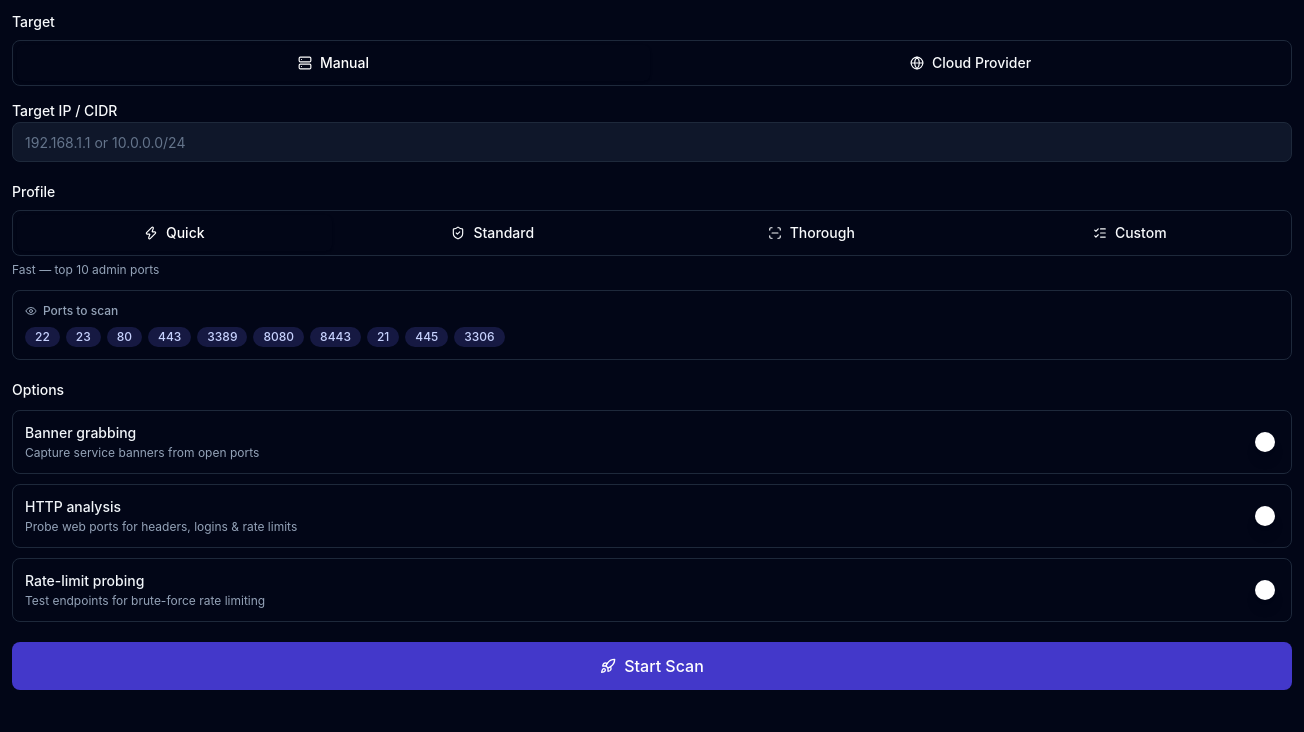
ScanForm profile preview › updates the preview chips when the standard profile is selected
Expected: the text "25" is not shown
Click the button "Standard" at coordinates (493, 233), box [336,215,650,251]
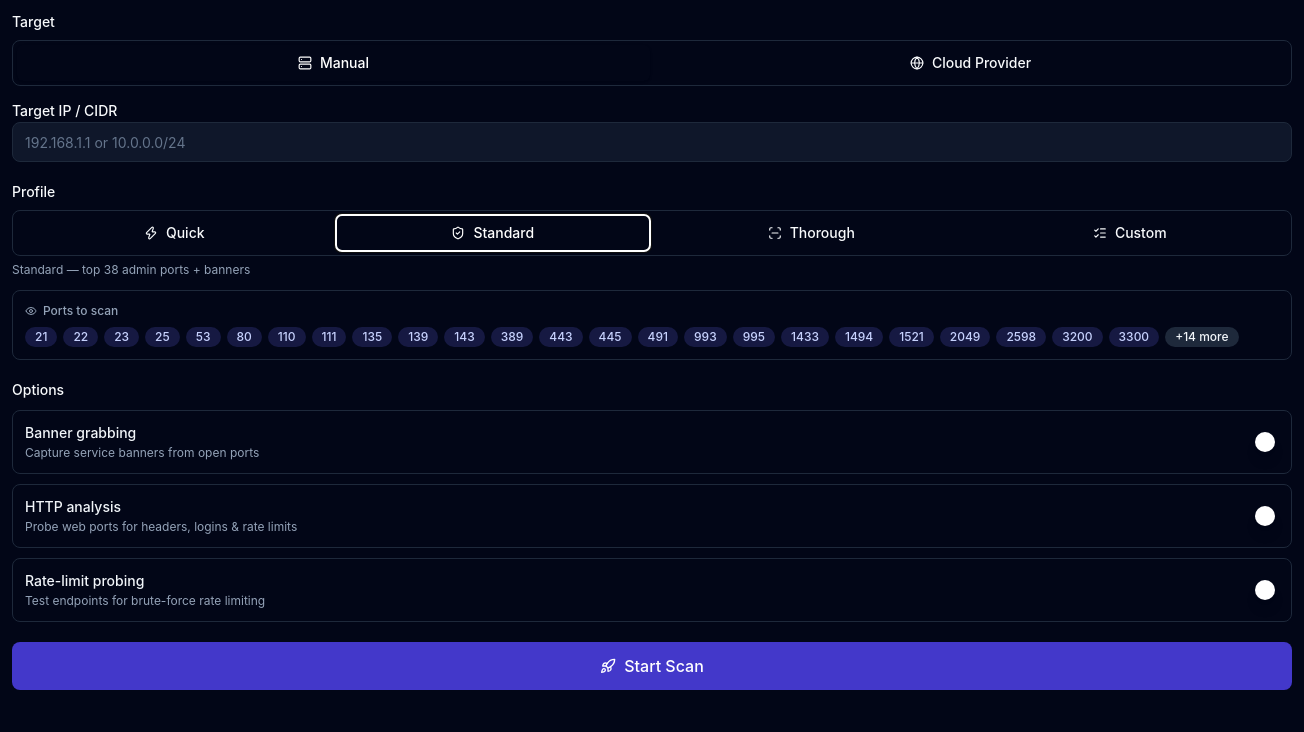
Expected: the text "25" is shown, [155,329,170,344]
Expected: the text "Standard — top 38 admin ports + banners" is shown, [12,262,250,277]
